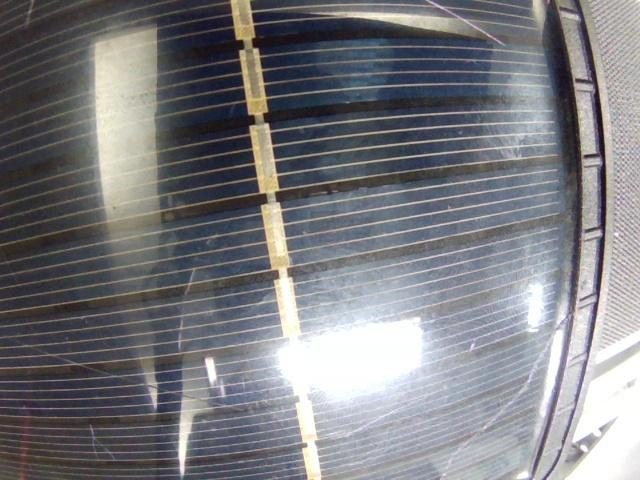crack: (439, 304, 568, 479), (431, 0, 504, 45), (176, 269, 195, 351), (90, 425, 116, 460), (25, 0, 35, 26), (470, 344, 474, 352)
